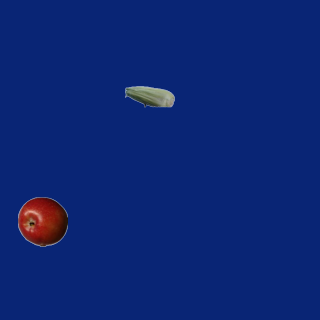Apple Braeburn: (17, 196, 67, 246)
Corn Husk: (124, 71, 174, 121)
